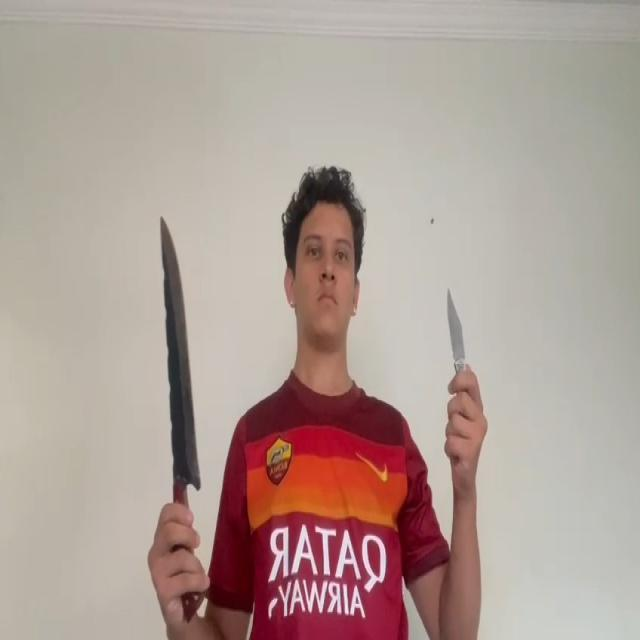knife: (160, 214, 202, 492), (446, 287, 466, 363)
